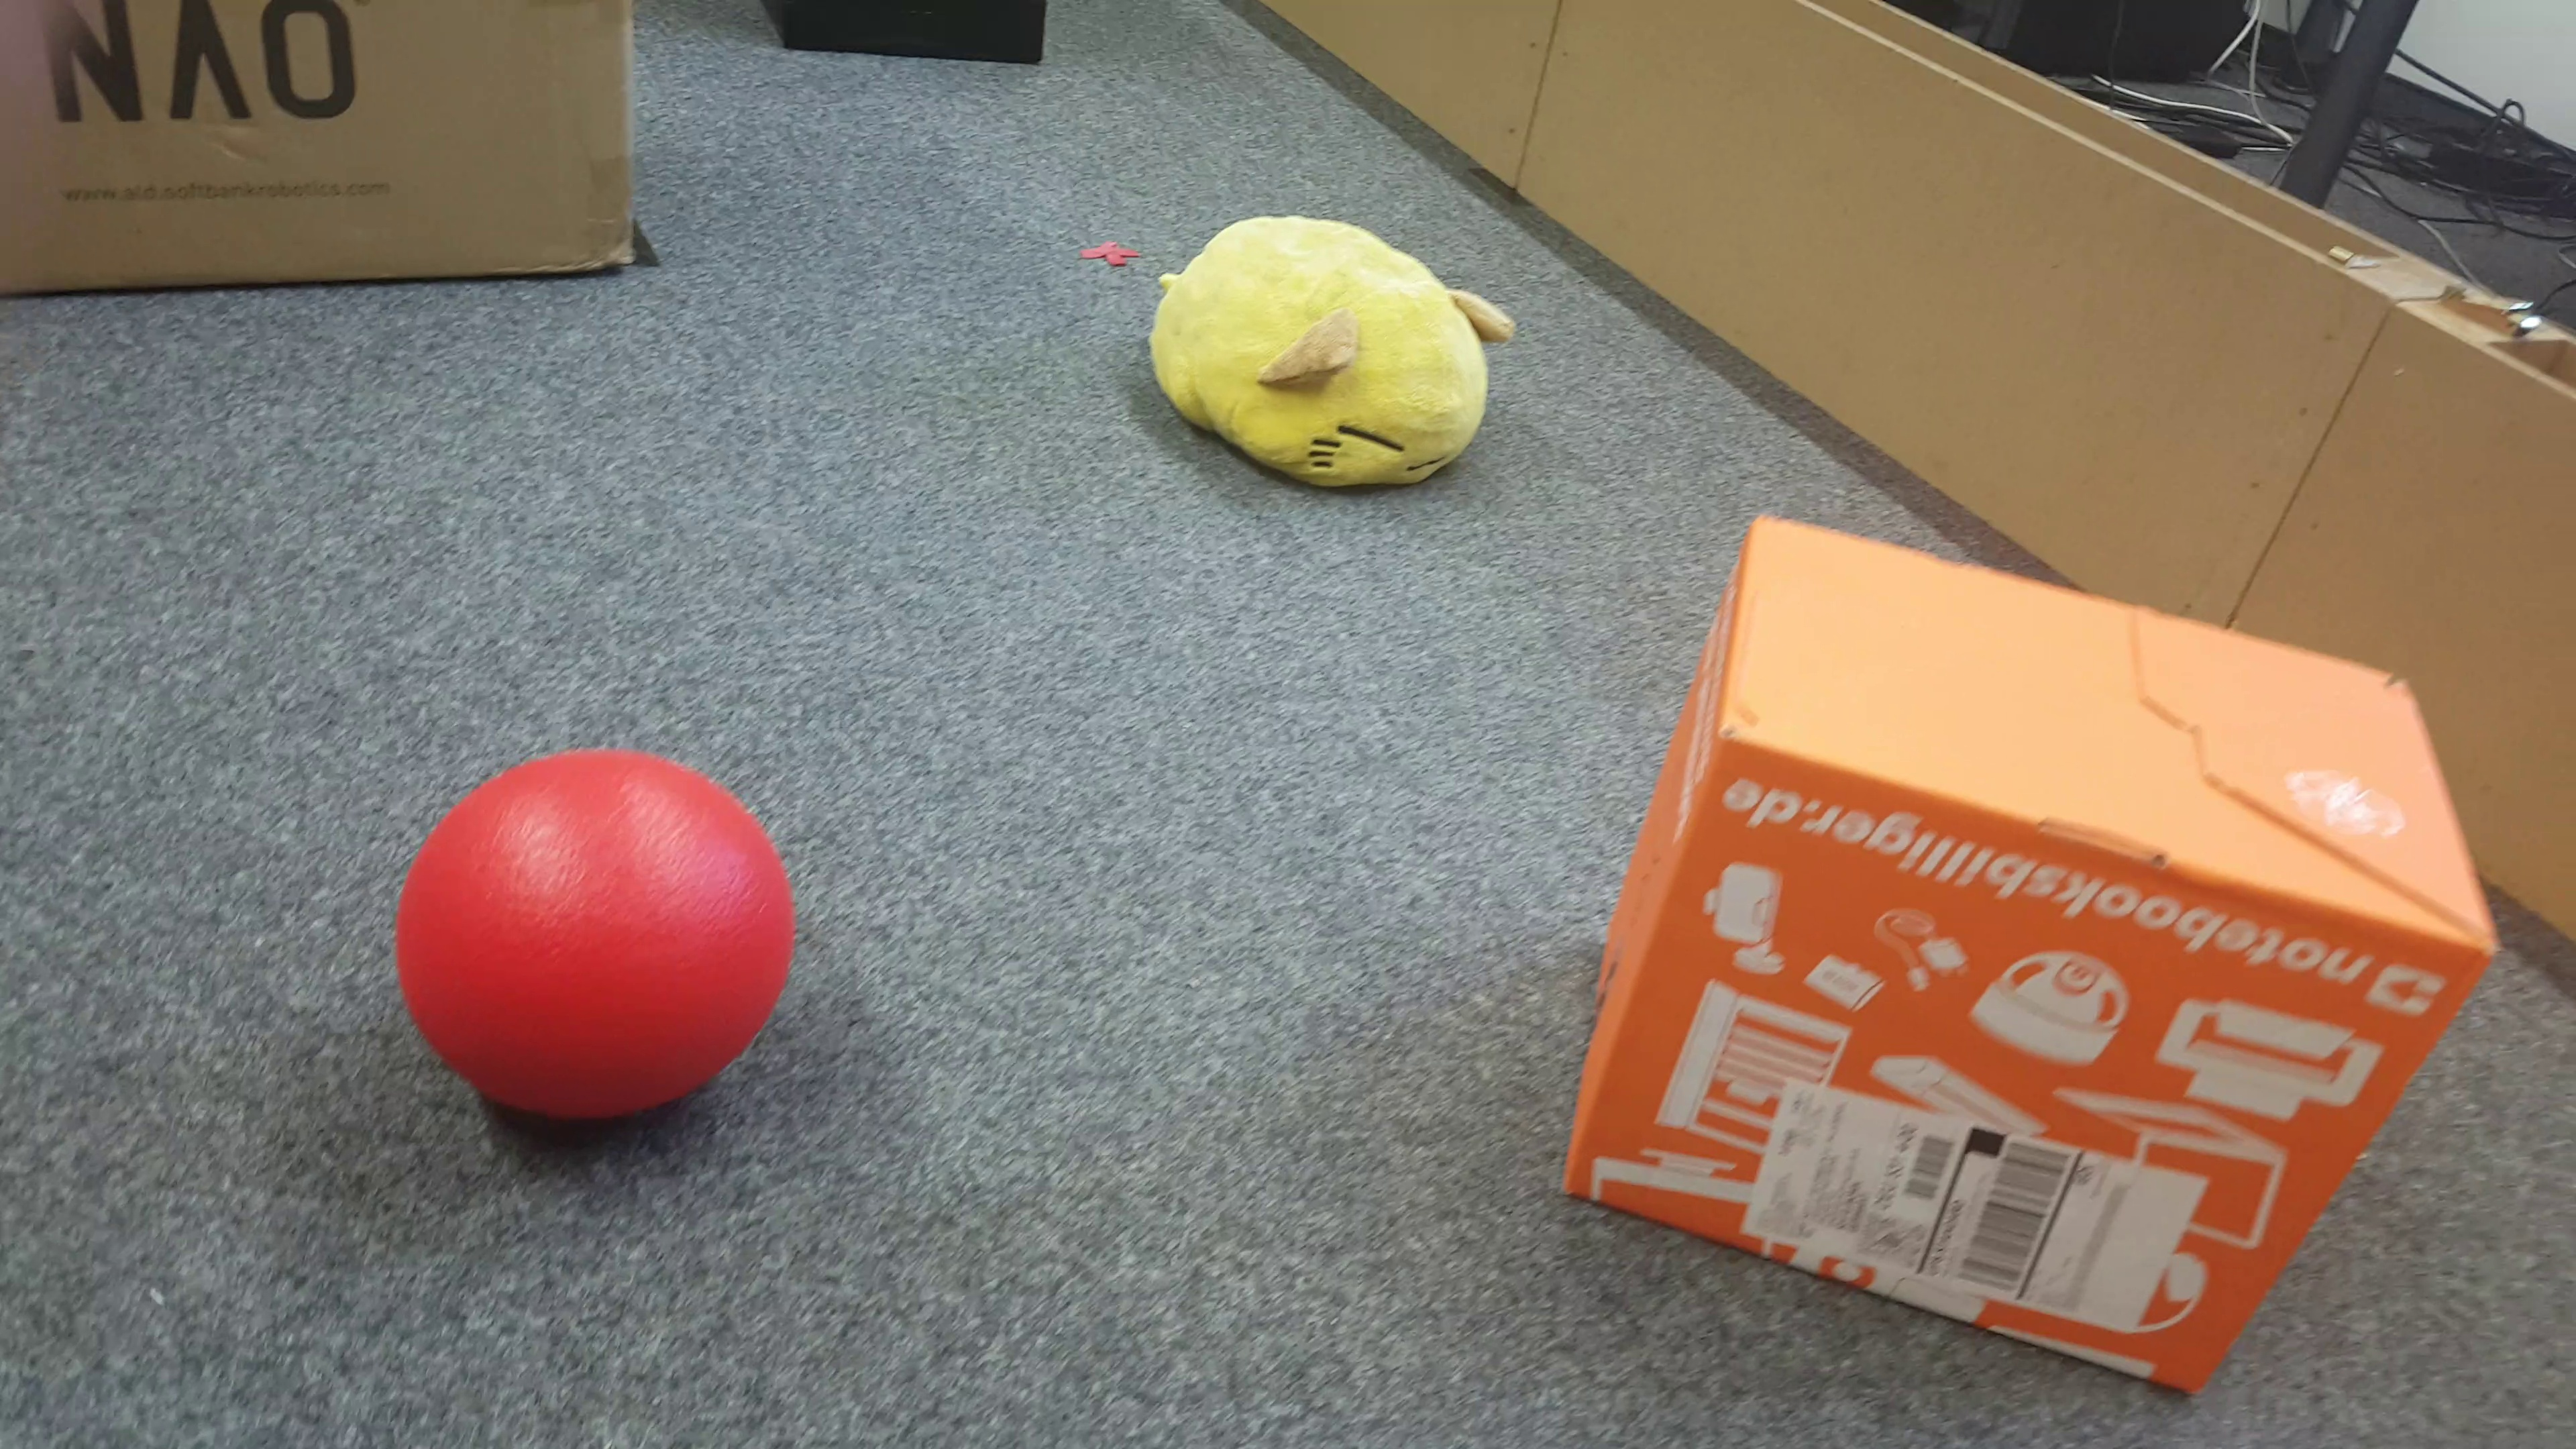grasp: (1146, 205, 1513, 506)
kick: (396, 748, 810, 1116)
push: (1569, 508, 2498, 1410)
